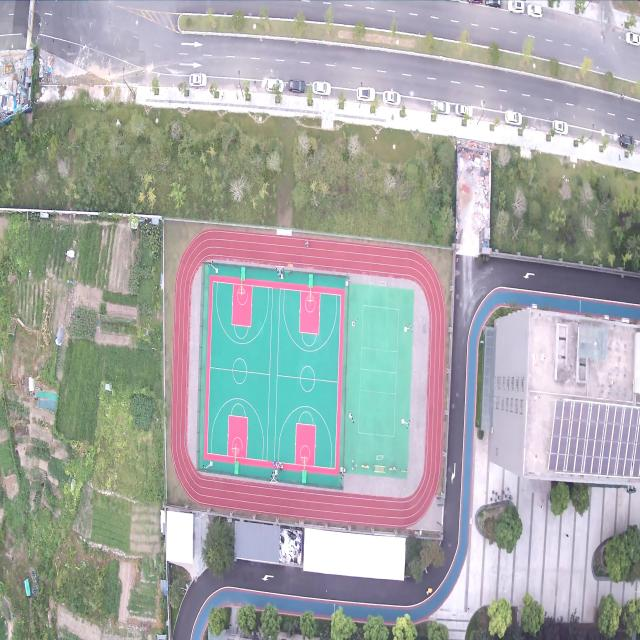drone: (144, 327, 150, 337)
